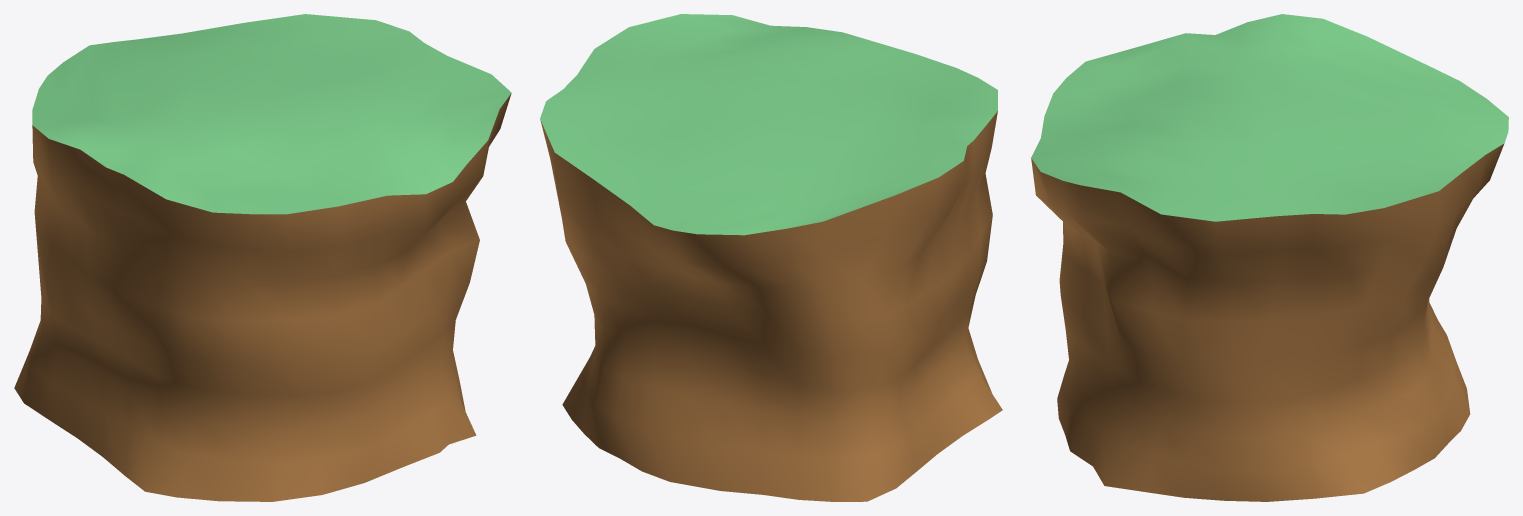
File: SmallTerrainPiece.fbx
3 views of the same model, side by side, from view 1: azimuth 30°, elevation 25°; view 2: azimuth 150°, elevation 25°; view 3: azimuth 270°, elevation 25° (orthographic).
Parts seen in each view (by area): view 1: SmallTerrainPiece; view 2: SmallTerrainPiece; view 3: SmallTerrainPiece.
Boxes of the visible parts, x1,y1,x2,y2 form: SmallTerrainPiece: (14,14,511,501); SmallTerrainPiece: (540,14,1002,501); SmallTerrainPiece: (1031,14,1508,501).
Size of the model in its own units: 10137 by 7484 by 10385.
